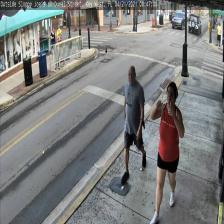person: (149, 81, 185, 224), (121, 65, 146, 182)
